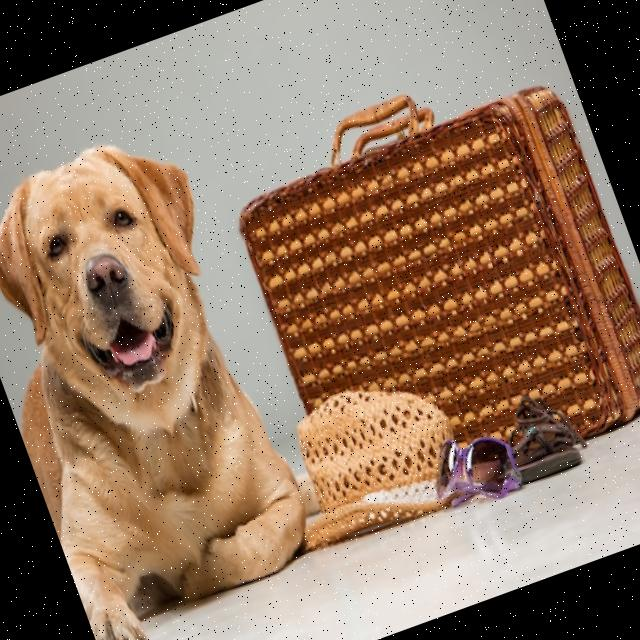Dog: (0, 120, 334, 640)
